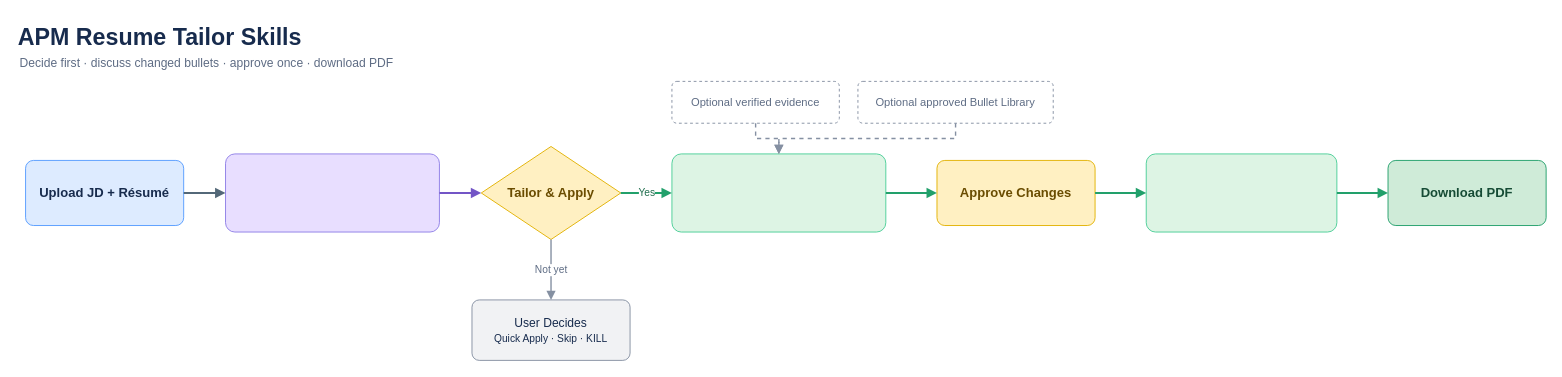
The diagram is 1562 pixels wide and 377 high, and some of its shapes have lost their labels. The shapes that lost their labels are listed below. From the top down, each one's box as (x1, y1, x2, y2) in pixels, then its label:
(225, 153, 439, 232): Decision Card + 3-Layer Decode Current → Tailored Match
(671, 153, 886, 232): Changed-Bullet Discussion Core Evidence + Keyword Match
(1145, 153, 1337, 232): Internal QA page · lines · bold · links · text
